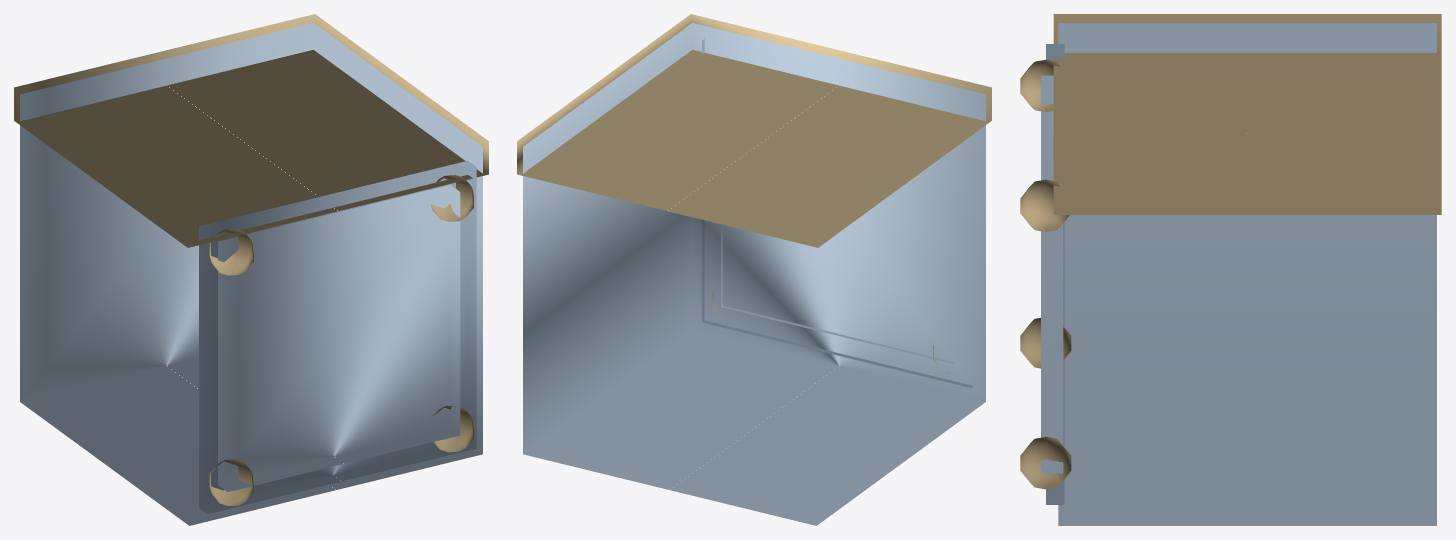
Rendered from block_brass.glb.
3 renders of one model, left to right at view 1: azimuth 30°, elevation 25°; view 2: azimuth 150°, elevation 25°; view 3: azimuth 270°, elevation 25°, orthographic. The views are drawn at different scales.
Size of the model in its own units: 24.6 by 24.5 by 26.72.
